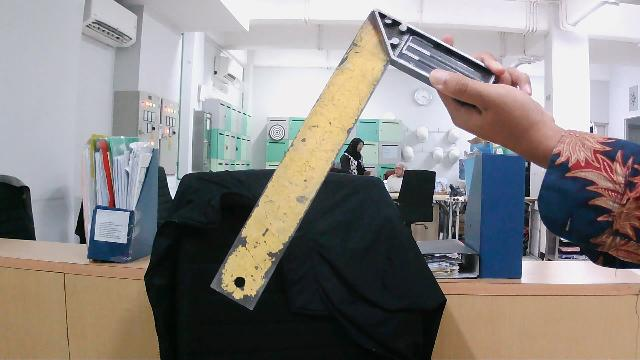penggaris_siku: (203, 5, 544, 316)
